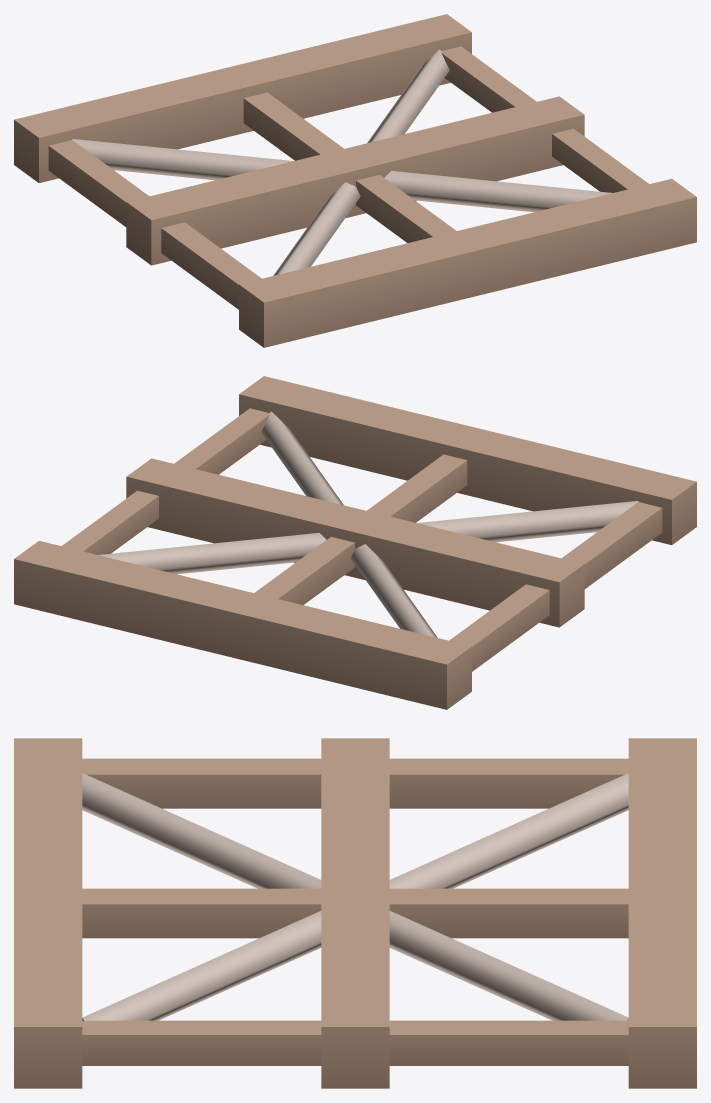
Rendered from trellis-horizontal-cross (%wall).glb.
3 renders of one model, top to bottom at view 1: azimuth 30°, elevation 25°; view 2: azimuth 150°, elevation 25°; view 3: azimuth 270°, elevation 25°, orthographic. The views are drawn at different scales.
Parts seen in each view (by area): view 1: trellis-horizontal-cross (%wall); view 2: trellis-horizontal-cross (%wall); view 3: trellis-horizontal-cross (%wall).
Part boxes in pixels (x1=…): trellis-horizontal-cross (%wall): x1=14, y1=14, x2=696, y2=347; trellis-horizontal-cross (%wall): x1=14, y1=376, x2=696, y2=709; trellis-horizontal-cross (%wall): x1=14, y1=738, x2=696, y2=1088.
Size of the model in its own units: 0.5 by 0.05 by 0.5.
